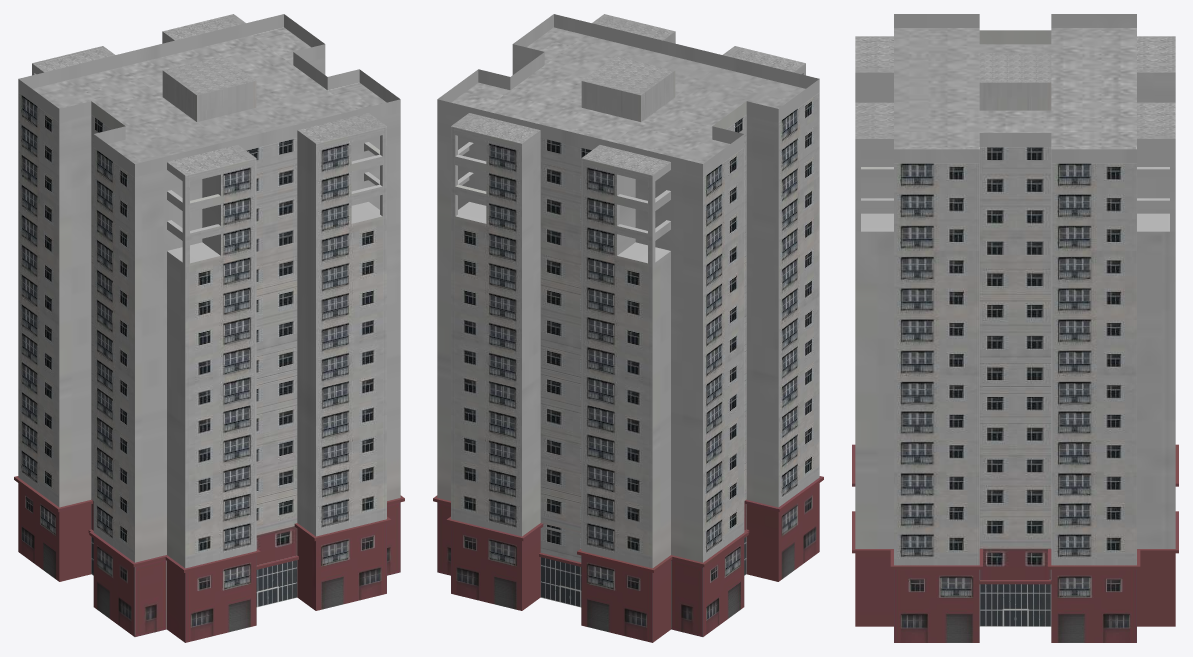
3 views of the same model, side by side, from view 1: azimuth 30°, elevation 25°; view 2: azimuth 150°, elevation 25°; view 3: azimuth 270°, elevation 25° (orthographic). The views are drawn at different scales.
Visible parts, largest first — view 1: HN484___Toa_nha_N2E.001; view 2: HN484___Toa_nha_N2E.001; view 3: HN484___Toa_nha_N2E.001.
Boxes of the visible parts, <box> form: HN484___Toa_nha_N2E.001: <box>14,14,404,642</box>; HN484___Toa_nha_N2E.001: <box>433,14,823,642</box>; HN484___Toa_nha_N2E.001: <box>852,14,1178,642</box>.
Bounding box in the file's own units: 29.7 × 50.9 × 29.7.
1 material, 1 textured.
